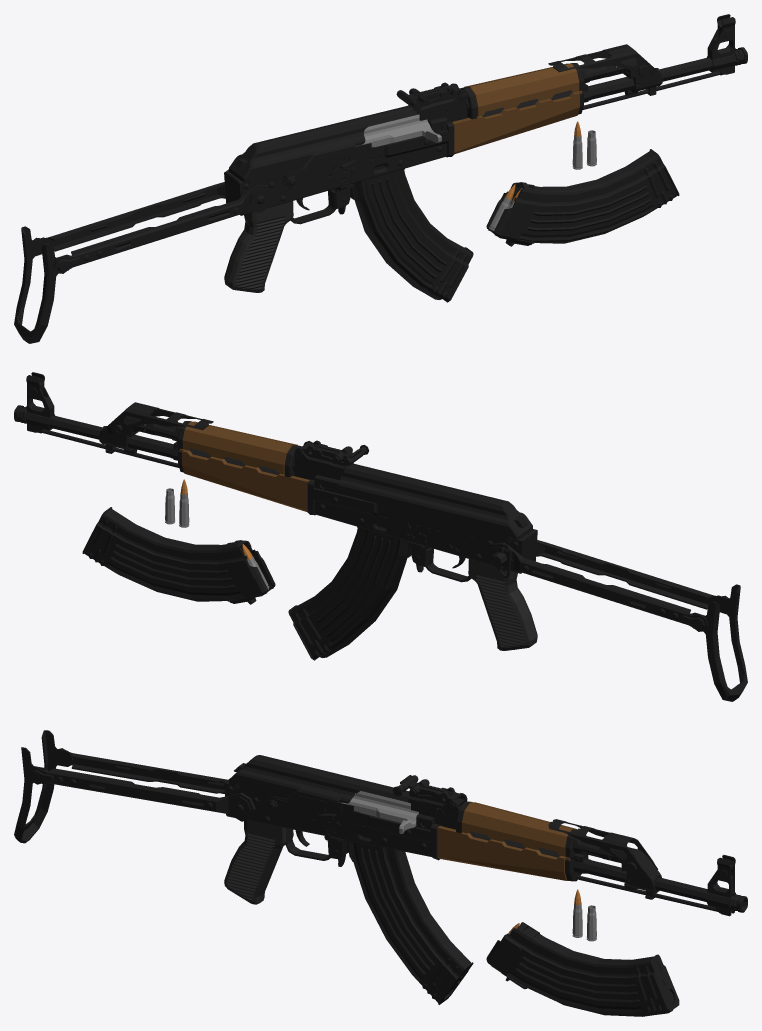
Rendered from low-poly_zastava_m70_ab2.glb.
3 renders of one model, top to bottom at view 1: azimuth 30°, elevation 25°; view 2: azimuth 150°, elevation 25°; view 3: azimuth 330°, elevation 25°, orthographic.
Parts seen in each view (by area): view 1: ak 30rnd steel mag_3, m70b2 receiver_12, ak 30rnd empty steel mag_2, m70b2 handguard_13, m70b2 stock base_15, m70b2 barrel_4, m70b2 dust cover_11, m70b2 grip_14, m70b2 stock butt_16, m70b2 bolt_5, m70b2 selector_8; view 2: ak 30rnd steel mag_3, m70b2 receiver_12, ak 30rnd empty steel mag_2, m70b2 stock base_15, m70b2 handguard_13, m70b2 dust cover_11, m70b2 barrel_4, m70b2 grip_14, m70b2 stock butt_16; view 3: ak 30rnd steel mag_3, ak 30rnd empty steel mag_2, m70b2 receiver_12, m70b2 handguard_13, m70b2 barrel_4, m70b2 stock base_15, m70b2 dust cover_11, m70b2 grip_14, m70b2 stock butt_16, m70b2 bolt_5, m70b2 selector_8.
Part boxes in pixels (<box>): ak 30rnd steel mag_3: <box>486,149,679,246</box>; m70b2 receiver_12: <box>224,63,616,224</box>; ak 30rnd empty steel mag_2: <box>350,168,473,302</box>; m70b2 handguard_13: <box>446,63,582,157</box>; m70b2 stock base_15: <box>33,169,272,273</box>; m70b2 barrel_4: <box>468,14,736,117</box>; m70b2 dust cover_11: <box>229,105,417,182</box>; m70b2 grip_14: <box>224,201,293,292</box>; m70b2 stock butt_16: <box>14,226,70,343</box>; m70b2 bolt_5: <box>355,66,617,147</box>; m70b2 selector_8: <box>281,143,371,189</box>; ak 30rnd steel mag_3: <box>82,507,275,604</box>; m70b2 receiver_12: <box>145,421,537,582</box>; ak 30rnd empty steel mag_2: <box>288,526,411,660</box>; m70b2 stock base_15: <box>489,540,728,631</box>; m70b2 handguard_13: <box>179,421,315,515</box>; m70b2 dust cover_11: <box>338,463,532,540</box>; m70b2 barrel_4: <box>25,372,293,475</box>; m70b2 grip_14: <box>468,559,537,650</box>; m70b2 stock butt_16: <box>691,584,747,701</box>; ak 30rnd steel mag_3: <box>486,922,679,1016</box>; ak 30rnd empty steel mag_2: <box>345,840,473,1004</box>; m70b2 receiver_12: <box>224,763,609,860</box>; m70b2 handguard_13: <box>430,802,577,880</box>; m70b2 barrel_4: <box>440,819,743,916</box>; m70b2 stock base_15: <box>28,748,255,821</box>; m70b2 dust cover_11: <box>229,755,418,803</box>; m70b2 grip_14: <box>224,820,293,904</box>; m70b2 stock butt_16: <box>14,730,73,843</box>; m70b2 bolt_5: <box>342,791,418,833</box>; m70b2 selector_8: <box>265,793,353,816</box>.
Bounding box in the file's own units: 9.03 × 2.56 × 0.7569.
